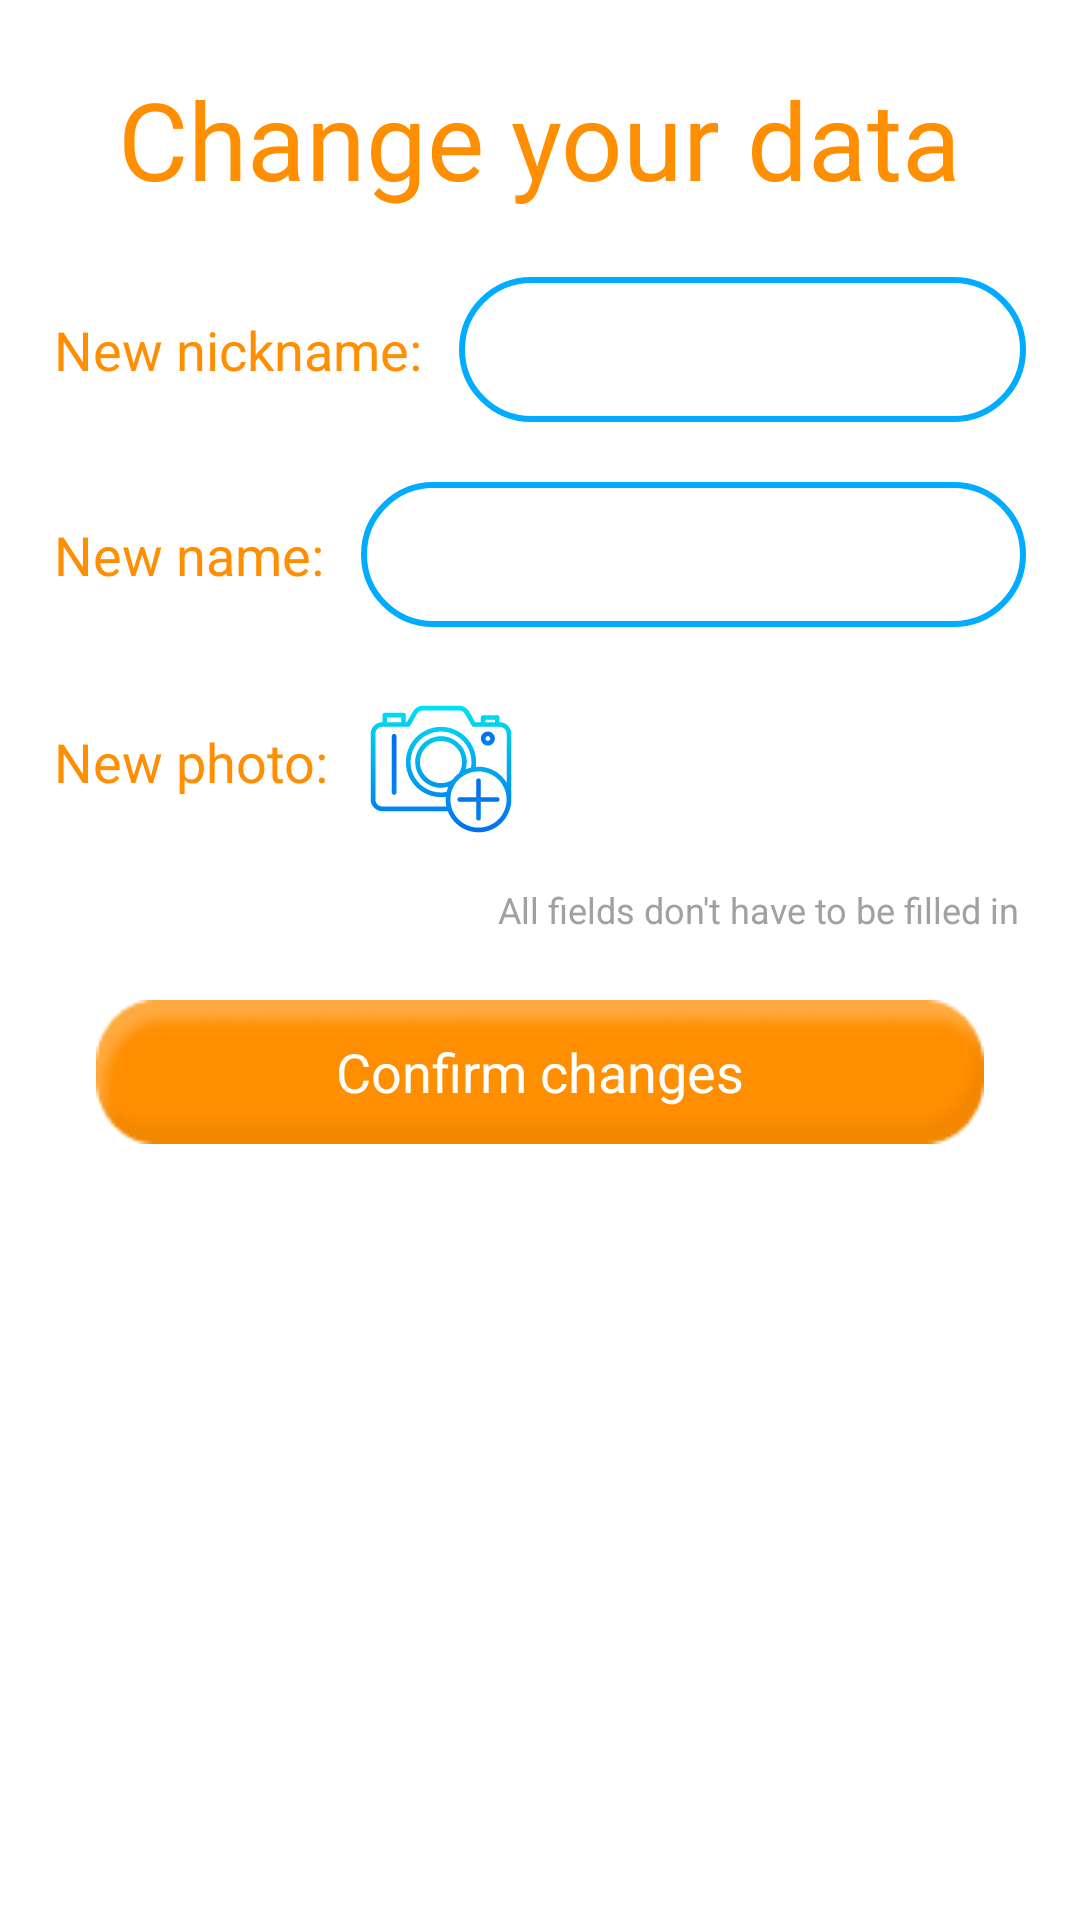

Point at icon controls on the screen. Image size 1080x1920, points as [x,y].
add photo: [441,769]
